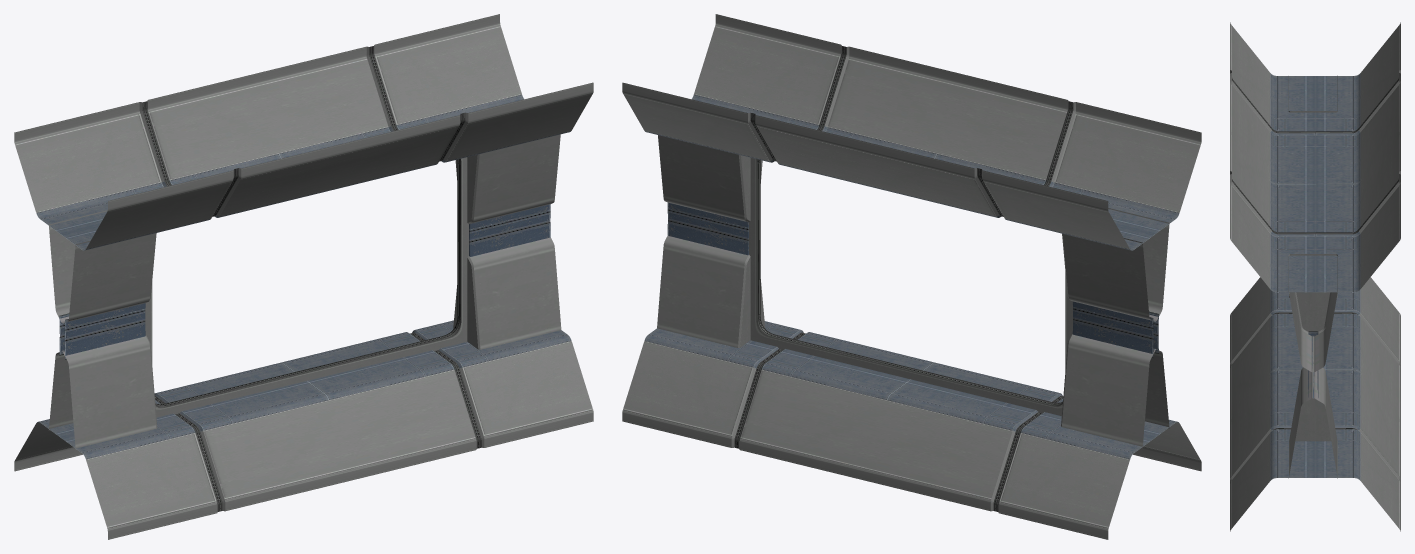
Rendered from Spctr_WallWindow_01.FBX.
The picture shows the model from 3 angles, left to right: view 1: azimuth 30°, elevation 25°; view 2: azimuth 150°, elevation 25°; view 3: azimuth 270°, elevation 25°; orthographic projection. The views are drawn at different scales.
Visible parts, largest first — view 1: Spctr_WallWindow_01; view 2: Spctr_WallWindow_01; view 3: Spctr_WallWindow_01.
Boxes of the visible parts, <box> form: Spctr_WallWindow_01: <box>14,14,593,539</box>; Spctr_WallWindow_01: <box>622,14,1201,539</box>; Spctr_WallWindow_01: <box>1230,22,1400,531</box>.
Size of the model in its own units: 6 by 4 by 2.
